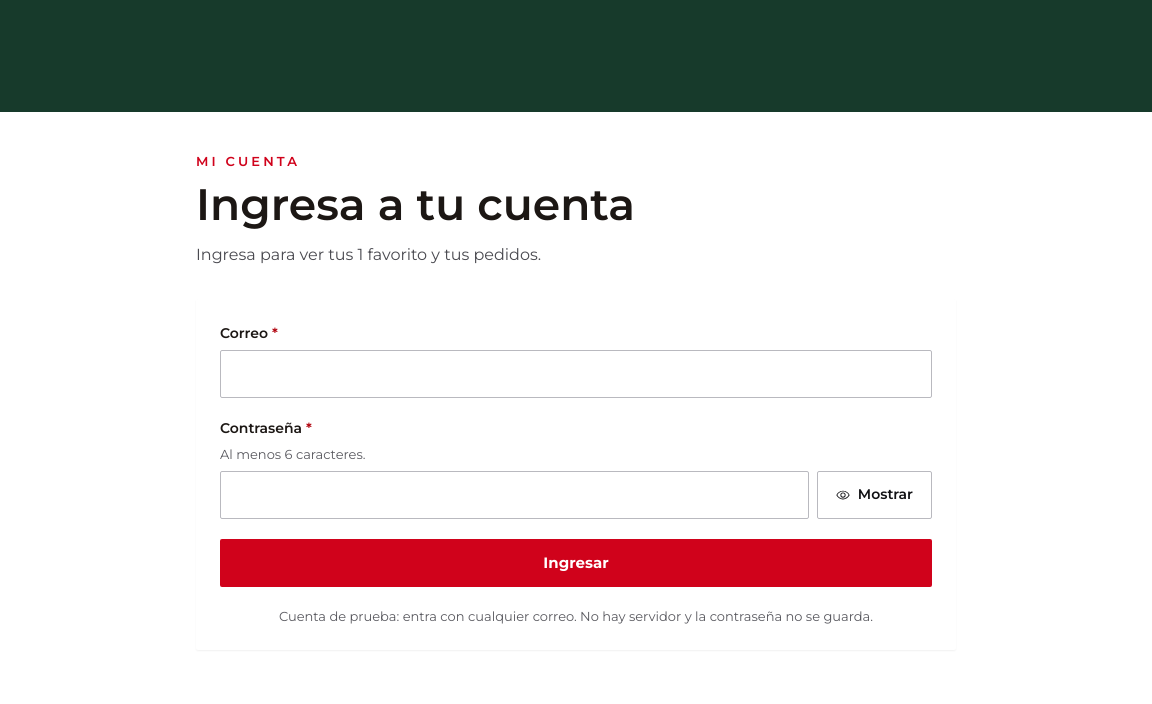
Test case: CuentaPage › ingresa, saluda y muestra favoritos y pedidos; luego cierra la sesión
Type "ana.perez@correo.pe" into the field labelled "Correo *" at (576, 374), box [220,350,932,398]
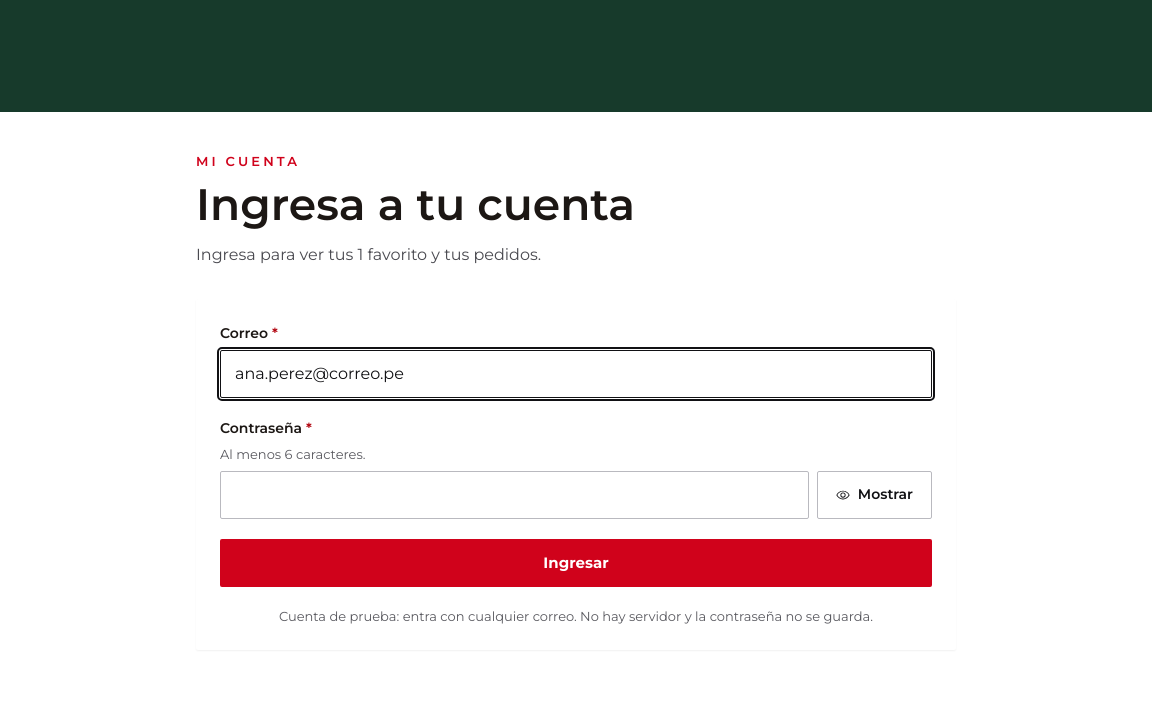
Type "secreto1" into the password field labelled "Contraseña *" at (514, 495), box [220,471,809,519]
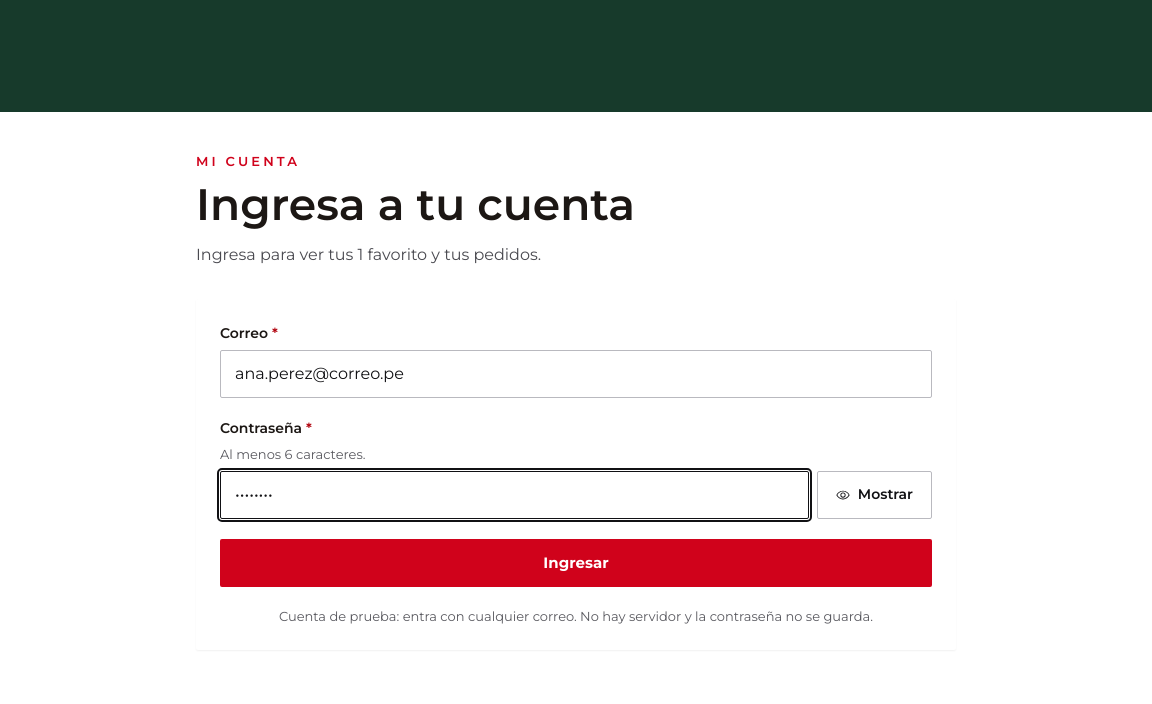
Click the button "Ingresar" at (576, 563), box [220,539,932,587]
(page scrolled)
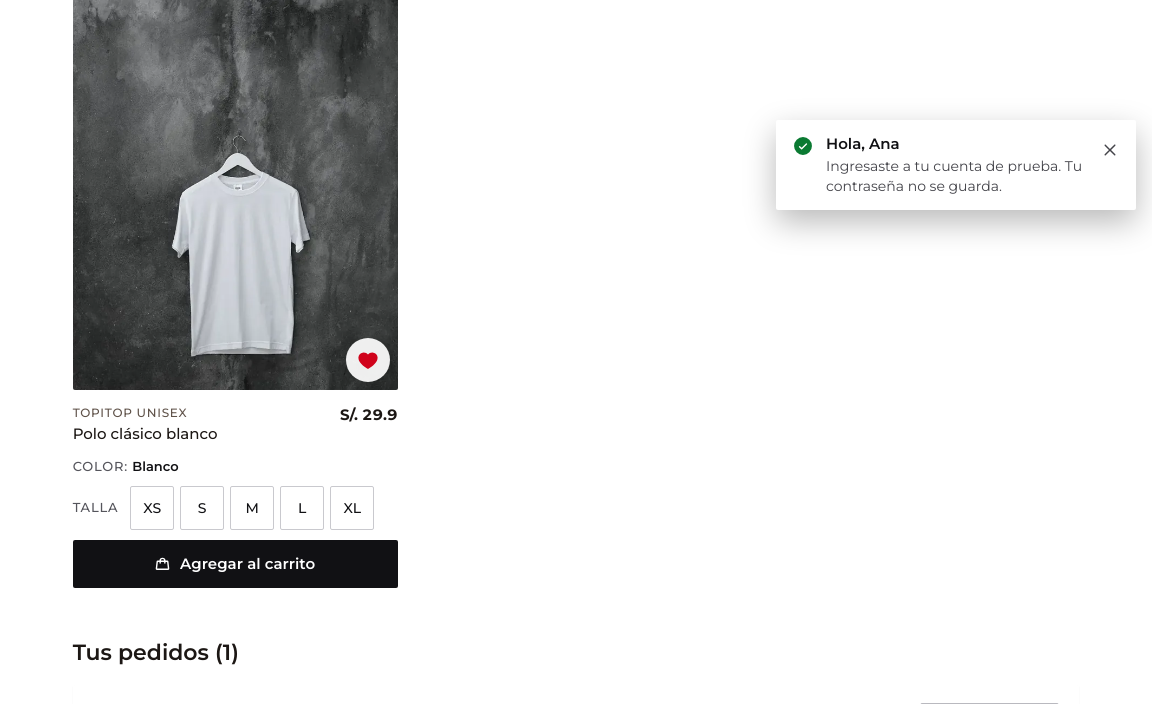
Result: the text "Ingresaste a tu cuenta de prueba. Tu contraseña no se guarda." is shown at [826,156,1090,196]
Quitar el corazón no saca la tarjeta: el foco sigue en el botón.
Click the button named "favoritos" at (368, 360), box [346,338,390,382]
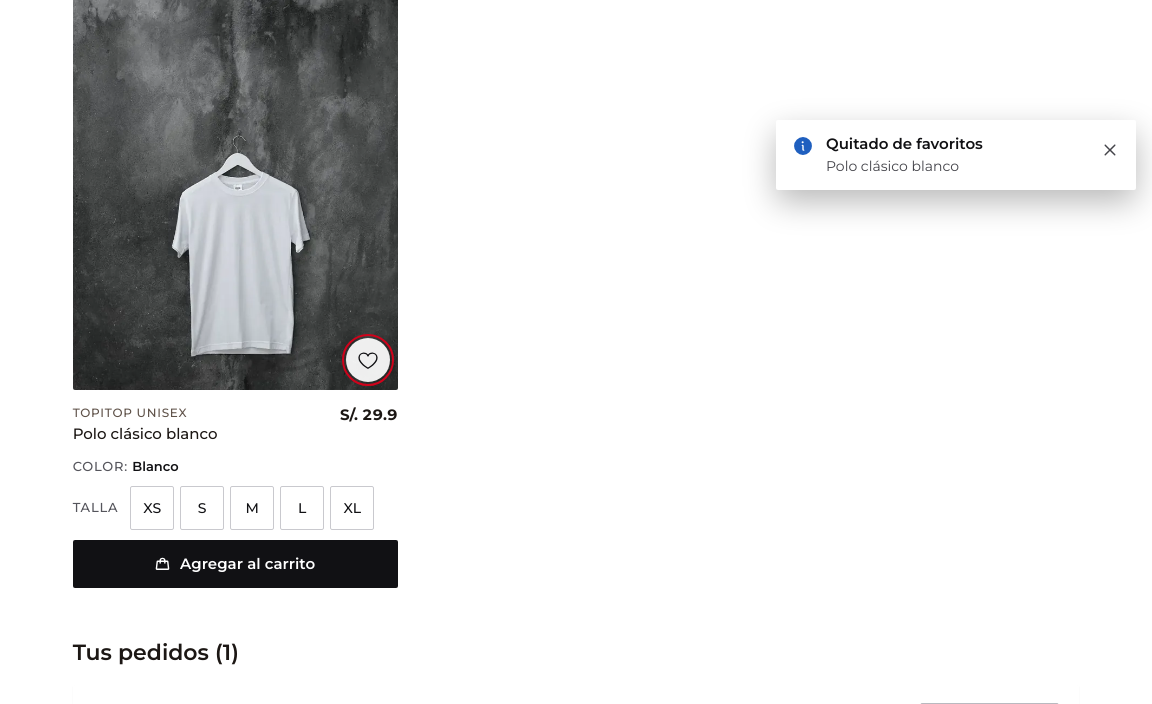
Click the button named "favoritos" at (368, 360), box [346,338,390,382]
(page scrolled)
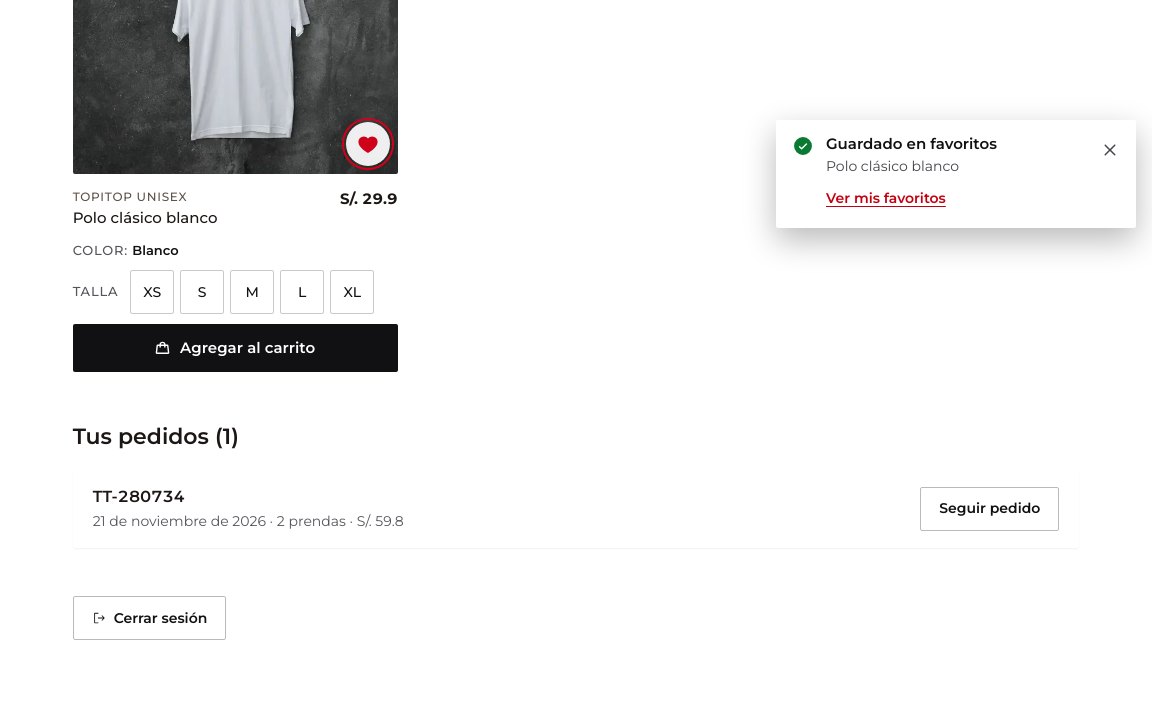
Click the button "Cerrar sesión" at (150, 618), box [73,596,226,640]
(page scrolled)
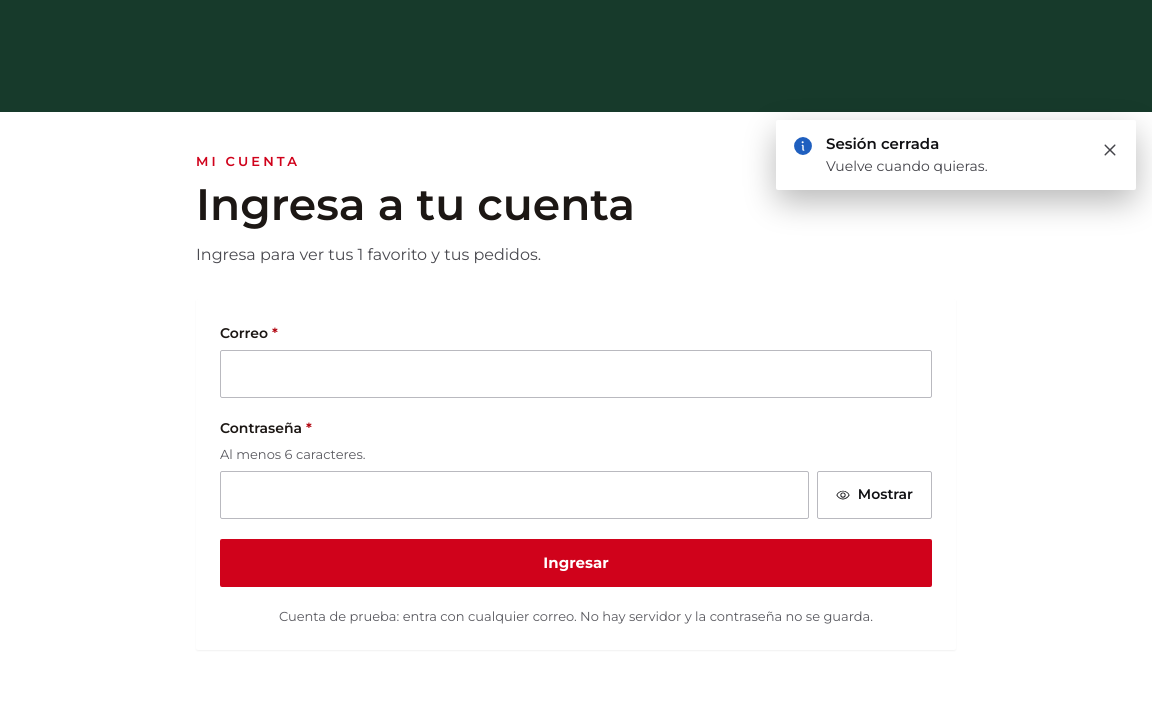
Result: the text "Sesión cerrada" is shown at [826,134,939,153]
